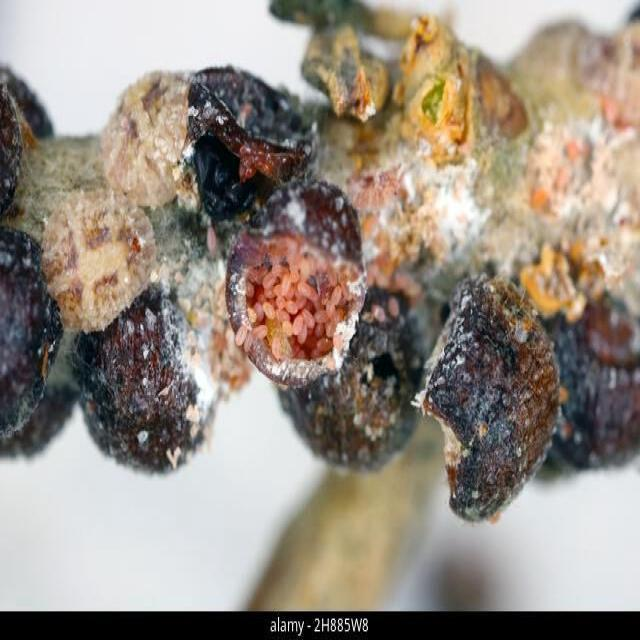BlackScale: (422, 274, 558, 520), (226, 180, 366, 387), (278, 288, 432, 470), (73, 289, 216, 471), (183, 68, 312, 218), (0, 224, 73, 456), (546, 298, 639, 470), (42, 189, 152, 329), (101, 72, 195, 206)
